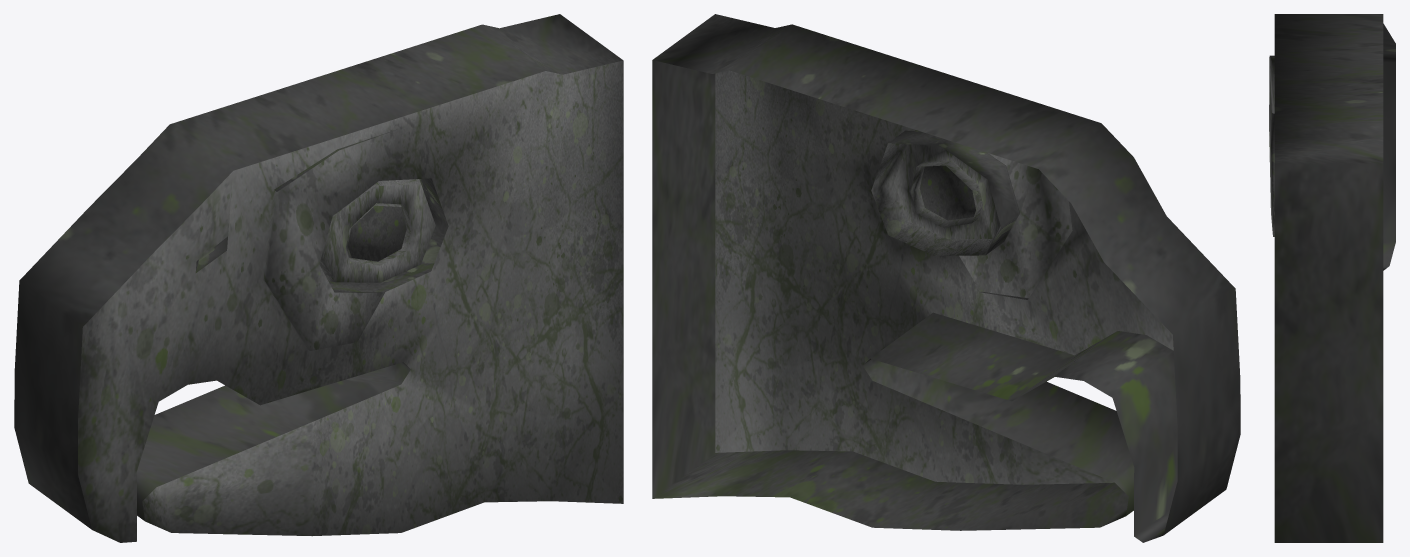
Rendered from ASSETMODEL_PROP_ROCK_AGUILA.fbx.
The picture shows the model from 3 angles, left to right: view 1: azimuth 30°, elevation 25°; view 2: azimuth 150°, elevation 25°; view 3: azimuth 270°, elevation 25°; orthographic projection. The views are drawn at different scales.
Parts seen in each view (by area): view 1: Plane; view 2: Plane; view 3: Plane.
Part boxes in pixels (box(x1,y1,x2,y2)): Plane: box(14, 14, 623, 542); Plane: box(652, 14, 1240, 542); Plane: box(1269, 14, 1395, 542).
Bounding box in the file's own units: 403 × 323 × 96.26.
1 material, 1 textured.
